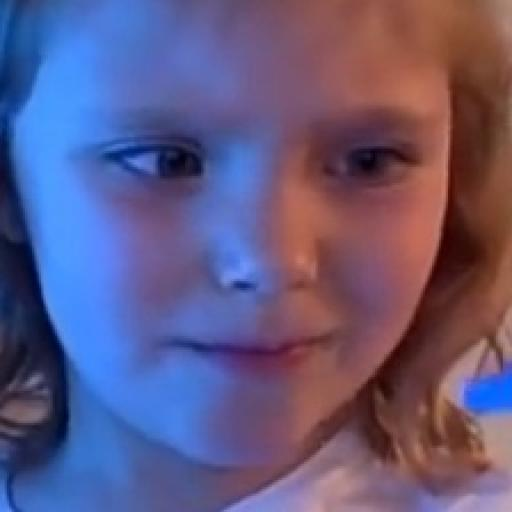Autism: (0, 3, 493, 481)
